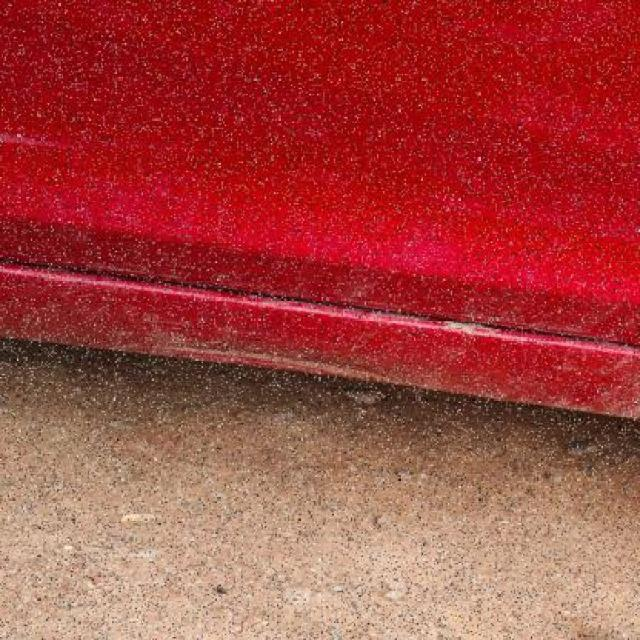RunningBoard-Dent: (6, 265, 640, 429)
